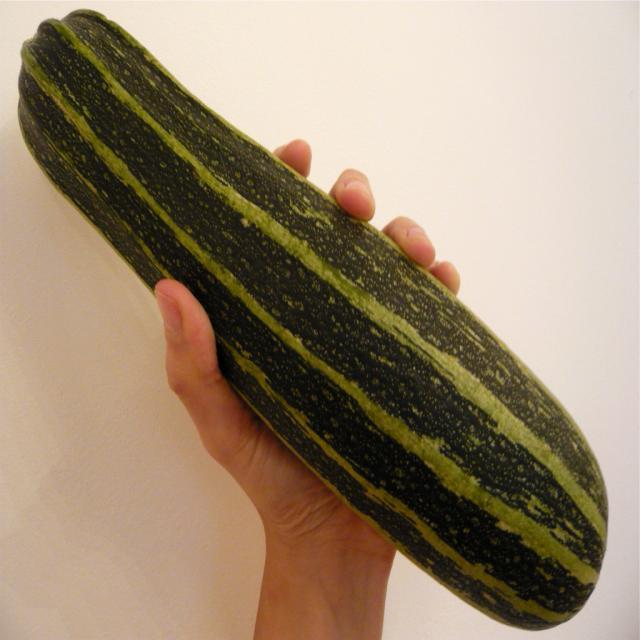Cucumber: (4, 9, 604, 554)
